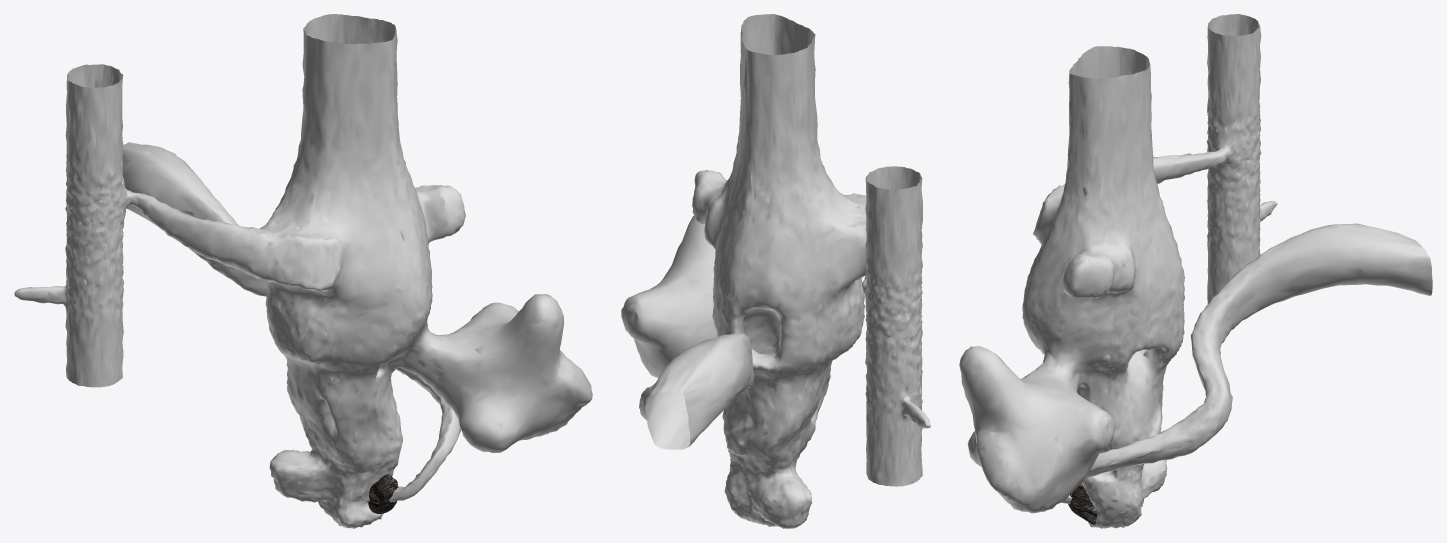
File: CaveTest_11_26.fbx
3 renders of one model, left to right at view 1: azimuth 30°, elevation 25°; view 2: azimuth 150°, elevation 25°; view 3: azimuth 270°, elevation 25°, orthographic. The views are drawn at different scales.
Visible parts, largest first — view 1: CaveBase, RoadBlock; view 2: CaveBase; view 3: CaveBase, RoadBlock.
Boxes of the visible parts, x1=… form: CaveBase: x1=14, y1=14, x2=592, y2=528; RoadBlock: x1=368, y1=474, x2=398, y2=513; CaveBase: x1=621, y1=14, x2=930, y2=528; CaveBase: x1=959, y1=14, x2=1432, y2=528; RoadBlock: x1=1068, y1=483, x2=1097, y2=524.
Size of the model in its own units: 39949 by 44033 by 40846.
